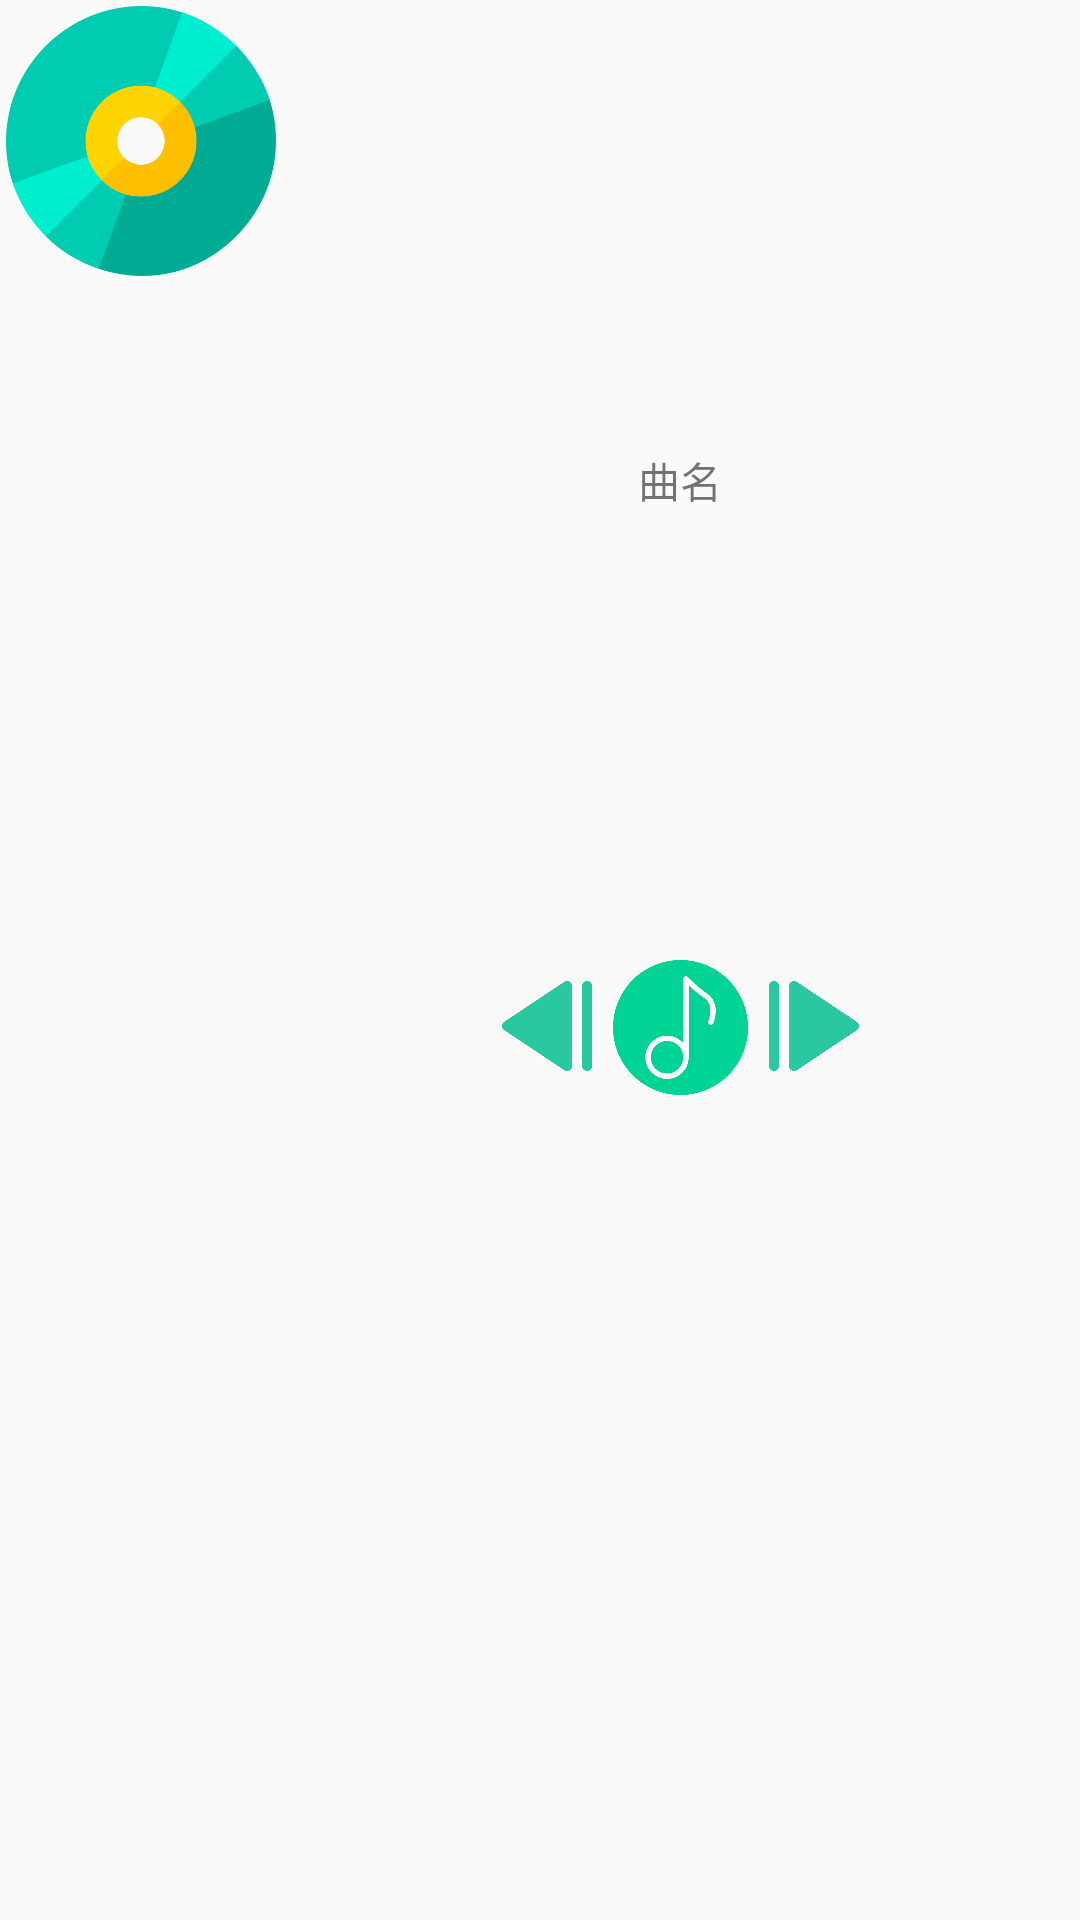

Icons on this 1080x1920 Android screen, each with the point to tap as (x,y):
next: (814,1026)
pre: (547,1026)
